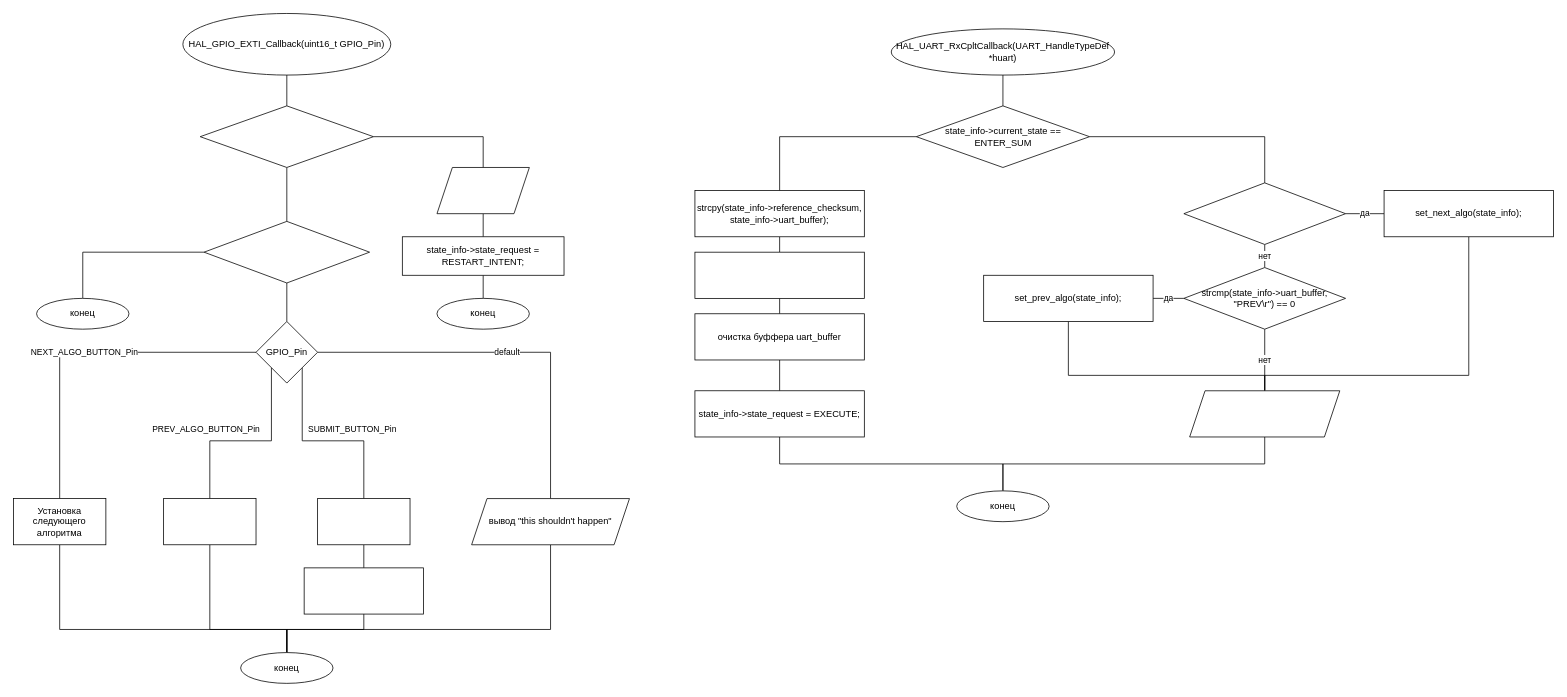
This 1567x697 diagram has some shape labels left out. Each missing label, with the box of its shape:
GPIO_Pin == RESTART_BUTTON_Pin: (199, 105, 373, 167)
state_info->current_state != CHOOSE_ALGO: (203, 221, 370, 283)
state_info->state_request = ENTER_SUM;: (303, 567, 424, 614)
strcmp(state_info->uart_buffer, "NEXT\r") == 0: (1183, 182, 1346, 244)
Вывод "Program restart": (436, 167, 529, 214)
Вывод сообщения-подсказки: (1189, 390, 1340, 437)
Отмена получения ввода с ПЭВМ: (317, 498, 410, 545)
Установка предыдущего алгоритма: (163, 498, 256, 545)
форматирование эталонной контрольной суммы: (694, 251, 864, 298)
